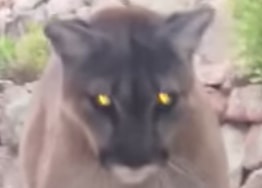Mountain Lion: (26, 4, 232, 186)
